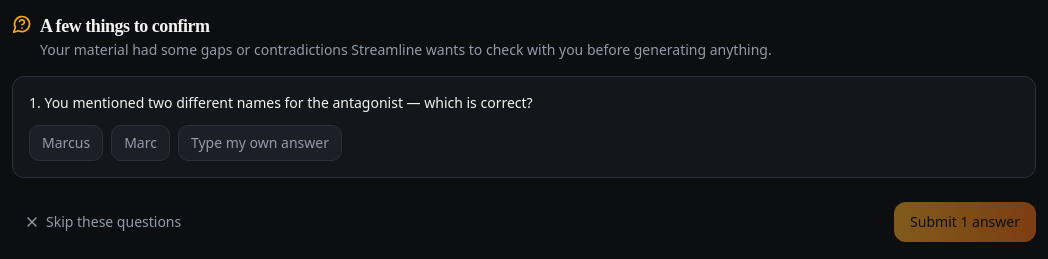
Test: AskAuteurQuestionUI › disables submit until every question is answered
Check: the button "Submit 1 answer" is disabled, box [894,202,1036,242]
Click the button "Marc". click: point(140, 143)
box: [111,125,170,161]
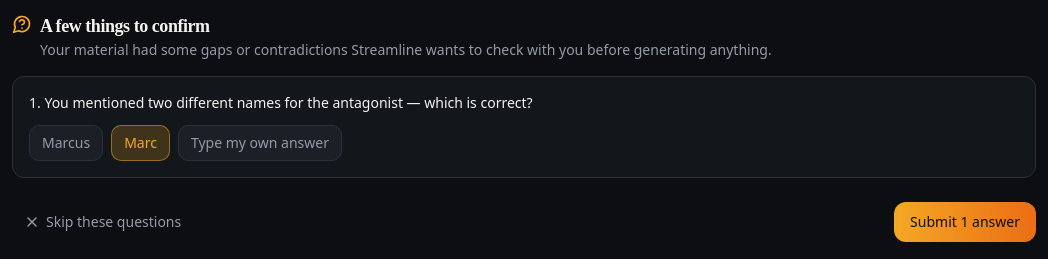
Check: the button "Submit 1 answer" is enabled, box [894,202,1036,242]
